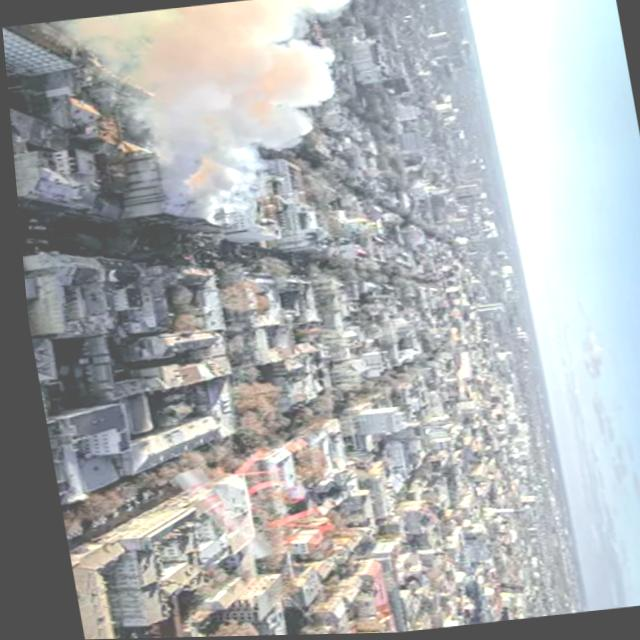no_helmet: (123, 0, 386, 221)
